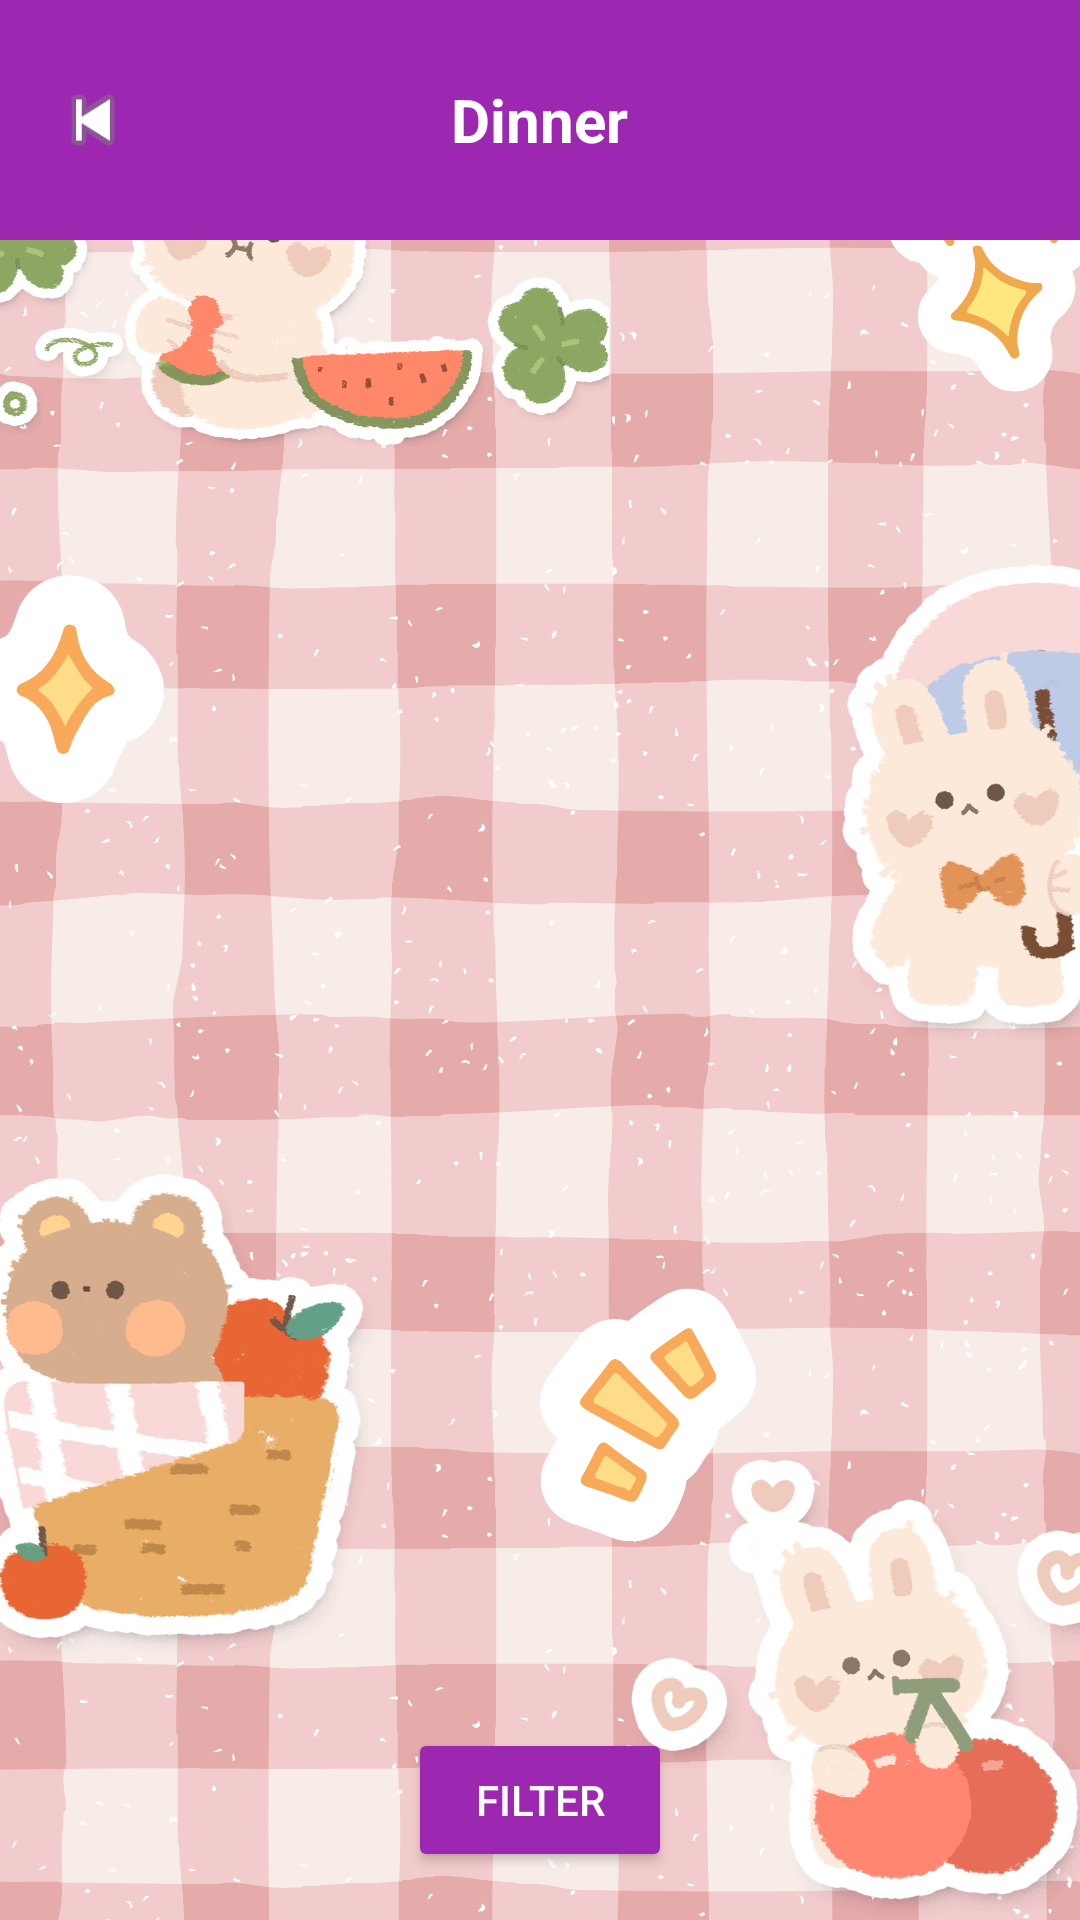

Screen size 1080*1920. Icon name, then its box in pixels as {"left": x1, "top": y1, "right": x2, "bottom": y2}:
previous: {"left": 71, "top": 95, "right": 115, "bottom": 145}
